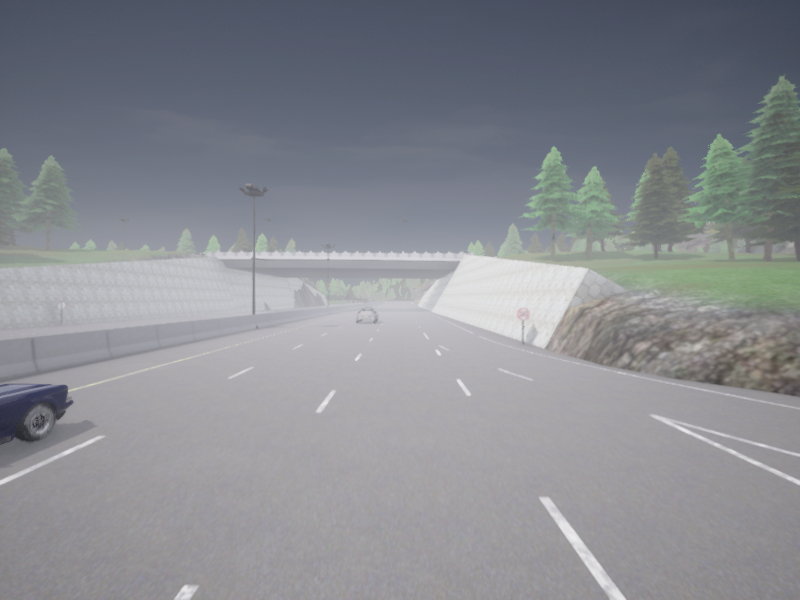vehicle: (0, 384, 73, 444), (357, 307, 378, 322)
